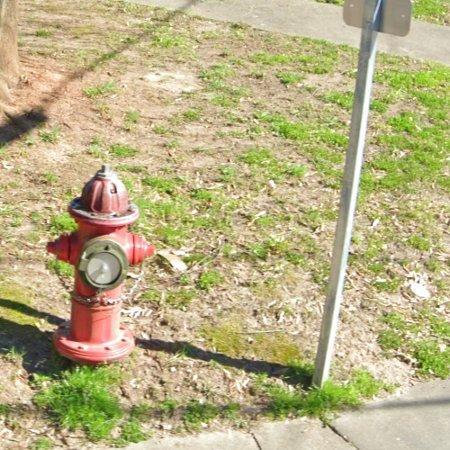a fire hydrant: (47, 166, 155, 364)
